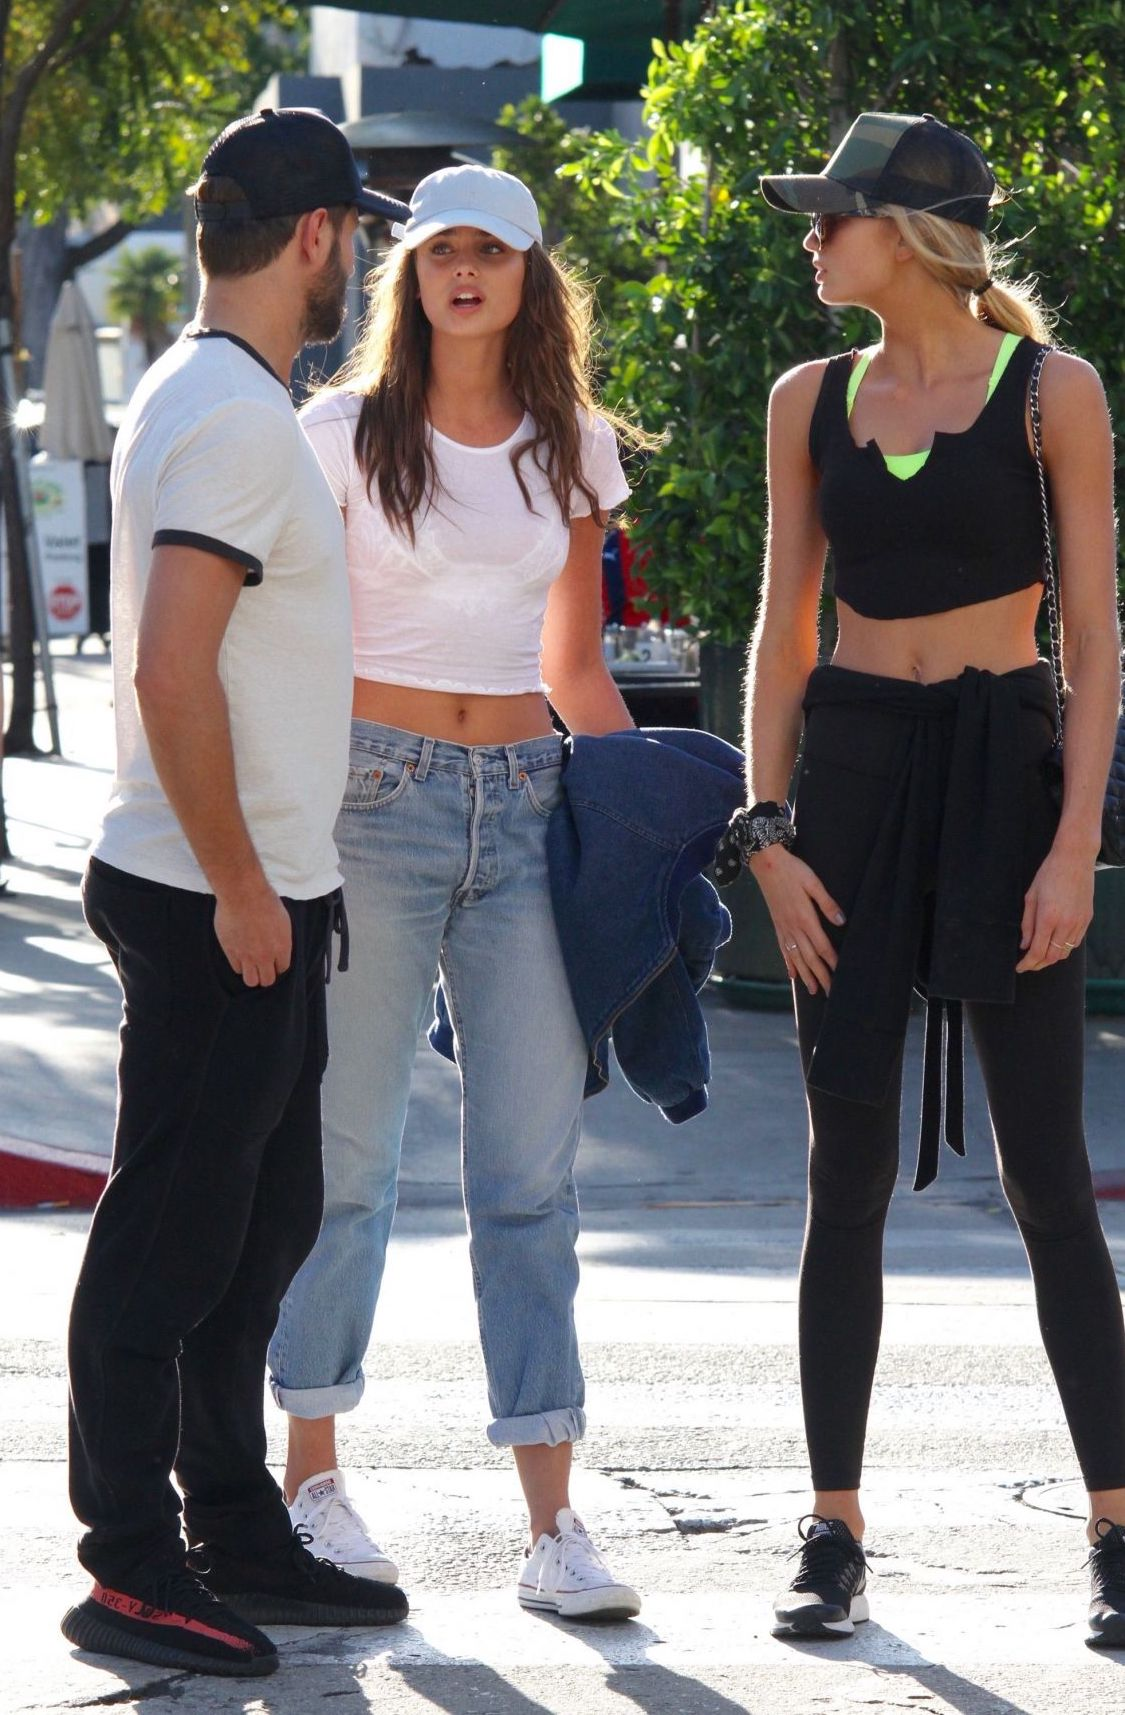Person: (736, 107, 1123, 1644), (61, 106, 414, 1684), (270, 160, 645, 1624)
